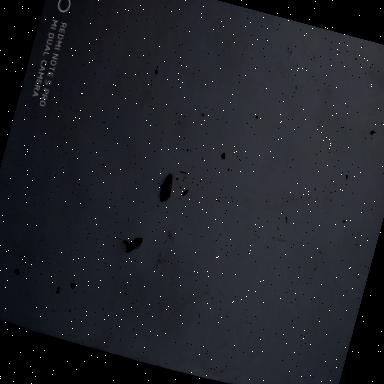pbw: (158, 172, 177, 200), (123, 234, 147, 256)
